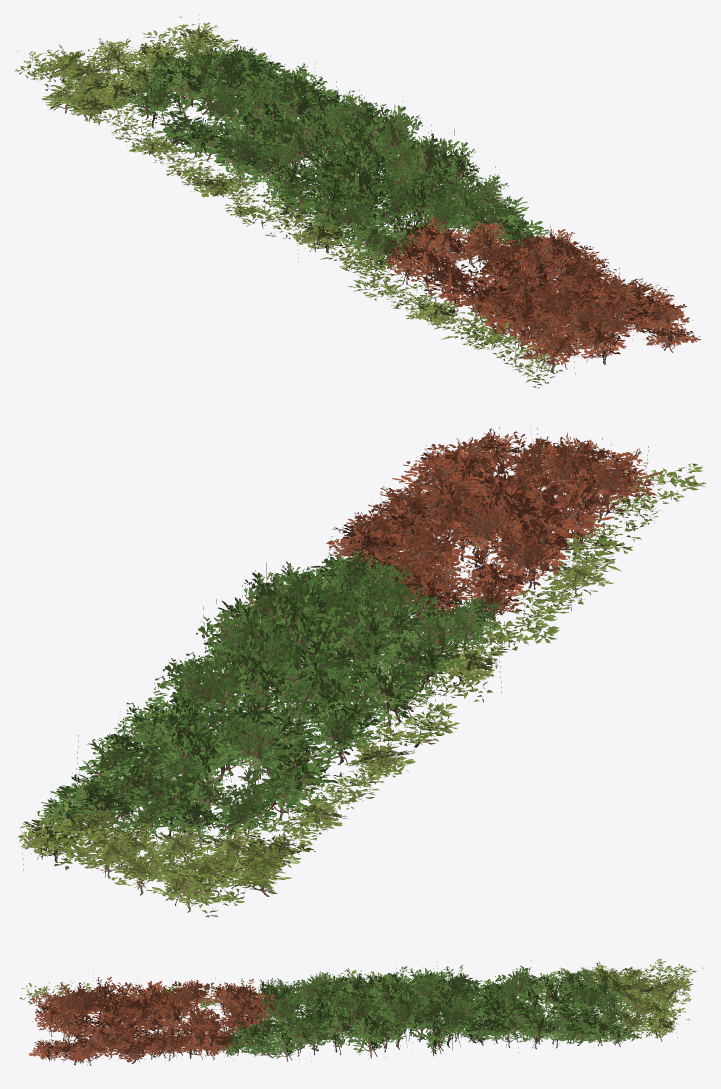
The picture shows the model from 3 angles, top to bottom: view 1: azimuth 30°, elevation 25°; view 2: azimuth 150°, elevation 25°; view 3: azimuth 270°, elevation 25°; orthographic projection. The views are drawn at different scales.
Visible parts, largest first — view 1: geometry_0; view 2: geometry_0; view 3: geometry_0.
Part boxes in pixels (x1,y1,x2,y2): geometry_0: (14,15,700,388); geometry_0: (18,427,706,917); geometry_0: (19,958,703,1065).
Size of the model in its own units: 4.65 by 1.27 by 12.66.
1 material, 1 textured.
